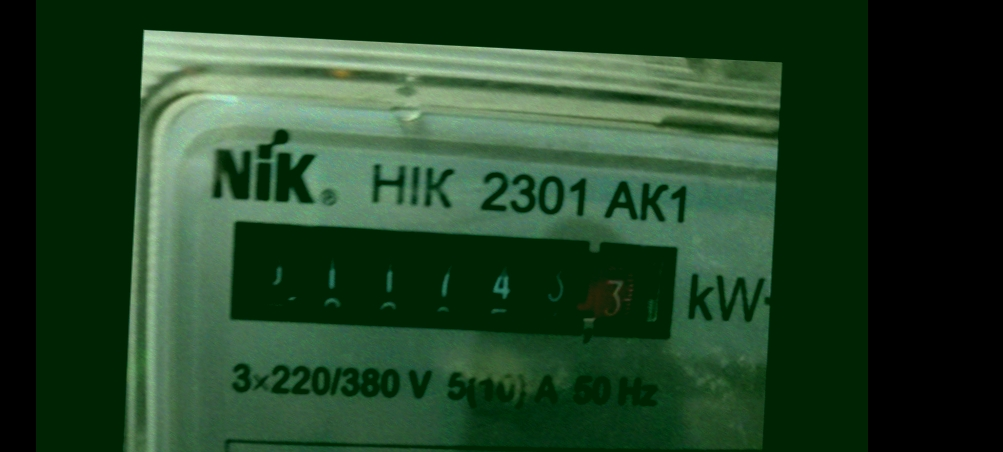0: (258, 240, 290, 288)
1: (378, 247, 402, 296), (323, 244, 343, 293)
3: (542, 257, 572, 306), (601, 274, 627, 319)
4: (488, 254, 518, 303)
7: (434, 252, 460, 301)
screen: (214, 210, 686, 351)
